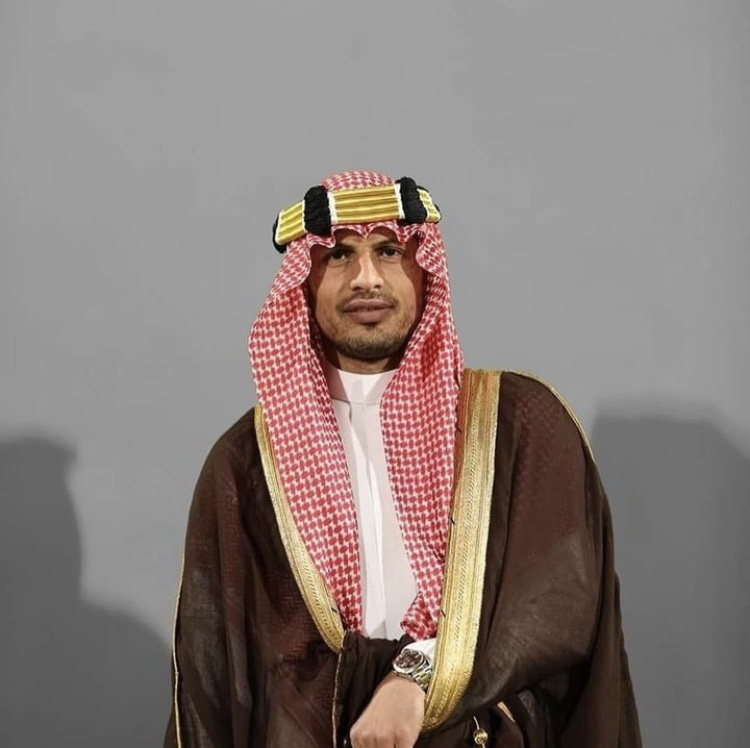Saudi_Founding_Day: (159, 165, 642, 748)
